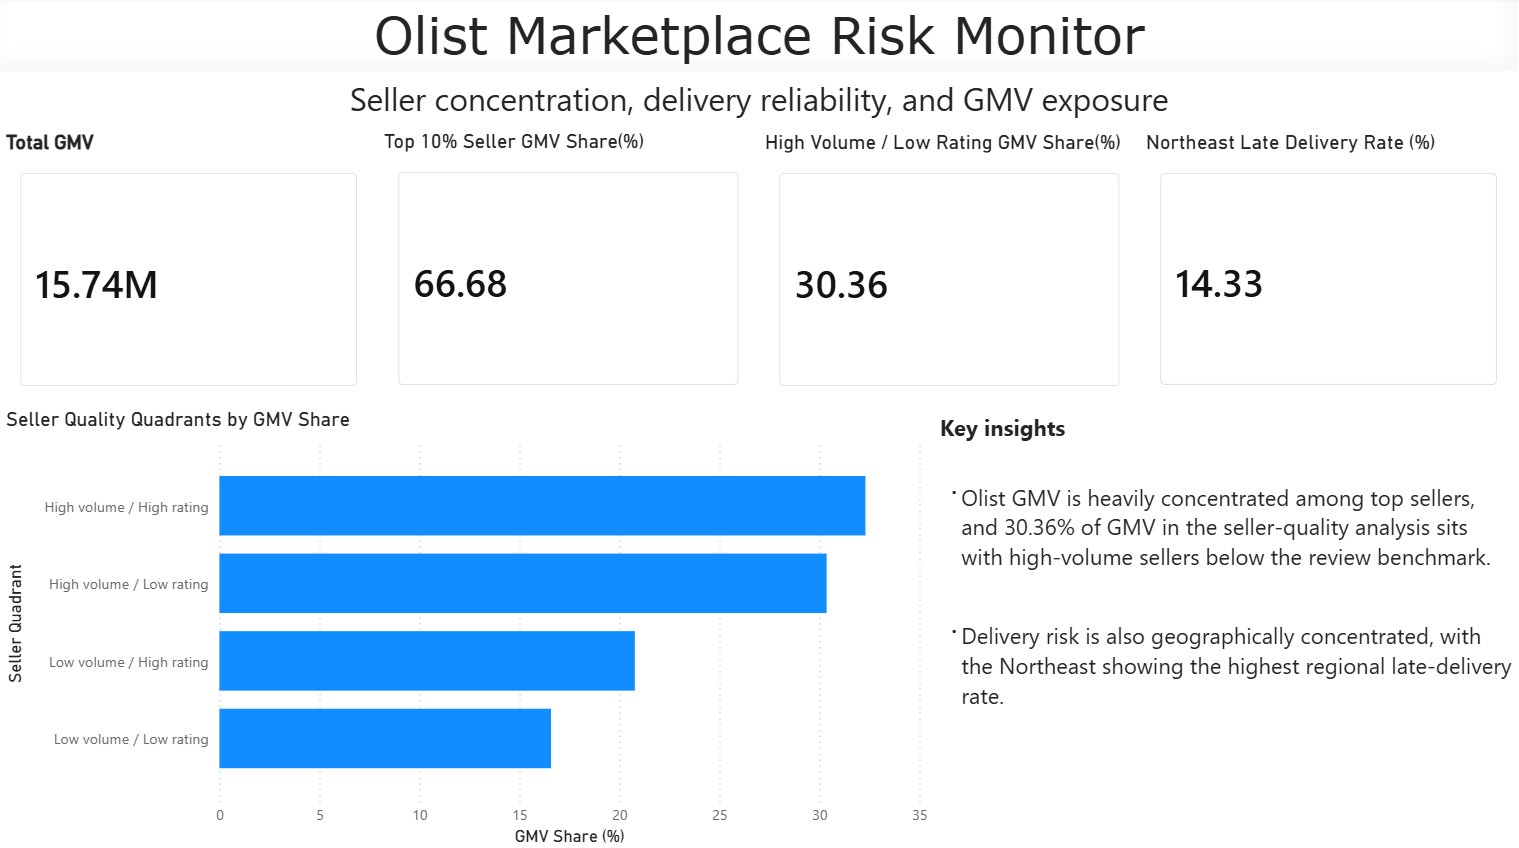

The page's visual inventory and layout, read from the dashboard file:
{"tool":"powerbi","page":{"name":"Executive Summary","canvas":[1280,720],"ordinal":0},"visuals":[{"type":"textbox","box":[0,0,1280,62.2],"z":0},{"type":"textbox","box":[0,62.2,1280,49.6],"z":1000},{"type":"cardVisual","title":"Total GMV","fields":{"Data":["Sum(Seller Concentration.total_marketplace_gmv)"]},"box":[0,112.1,318.8,233.6],"z":2000},{"type":"cardVisual","title":"Top 10% Seller GMV Share(%)","fields":{"Data":["Sum(Seller Concentration.top_10_gmv_share_pct)"]},"box":[318.8,110.9,321.2,233.6],"z":3000},{"type":"clusteredBarChart","title":"Seller Quality Quadrants by GMV Share","fields":{"Category":["Seller Quadrants.seller_quadrant"],"Y":["Sum(Seller Quadrants.gmv_share_pct)"]},"box":[0,345.7,787.2,374.9],"z":4000},{"type":"cardVisual","title":"High Volume / Low Rating GMV Share(%)","fields":{"Data":["Sum(Seller Quadrants.gmv_share_pct)"]},"box":[640,112.1,321.2,233.6],"z":5000},{"type":"textbox","box":[787.2,344.5,492.8,376.1],"z":6000},{"type":"cardVisual","title":"Northeast Late Delivery Rate (%)","fields":{"Data":["Sum(Region Delivery.late_delivery_rate_pct)"]},"box":[961.2,112.1,318.8,232.4],"z":7000}]}

Visuals, with their boxes in screenshot pixels (x1, y1, x2, y2), scaled from the page's 1280x720 canvas onto the 1519x848 screenshot:
textbox: pyautogui.locateOnScreen(0, 0, 1518, 73)
textbox: pyautogui.locateOnScreen(0, 73, 1518, 132)
"Total GMV" cardVisual: pyautogui.locateOnScreen(0, 132, 378, 407)
"Top 10% Seller GMV Share(%)" cardVisual: pyautogui.locateOnScreen(378, 131, 760, 406)
"Seller Quality Quadrants by GMV Share" clusteredBarChart: pyautogui.locateOnScreen(0, 407, 934, 847)
"High Volume / Low Rating GMV Share(%)" cardVisual: pyautogui.locateOnScreen(760, 132, 1141, 407)
textbox: pyautogui.locateOnScreen(934, 406, 1518, 847)
"Northeast Late Delivery Rate (%)" cardVisual: pyautogui.locateOnScreen(1141, 132, 1518, 406)
